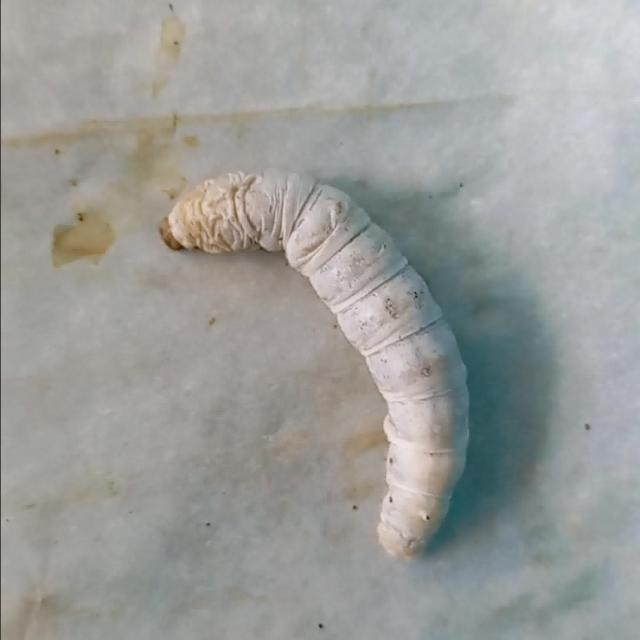Grasserie: (131, 150, 496, 583)
